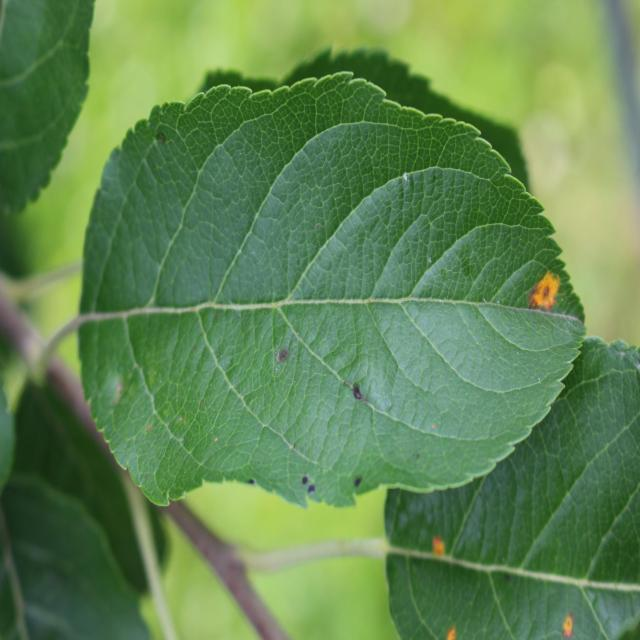Rust: (523, 247, 566, 327), (422, 525, 453, 566), (437, 615, 463, 640), (556, 615, 580, 640)
